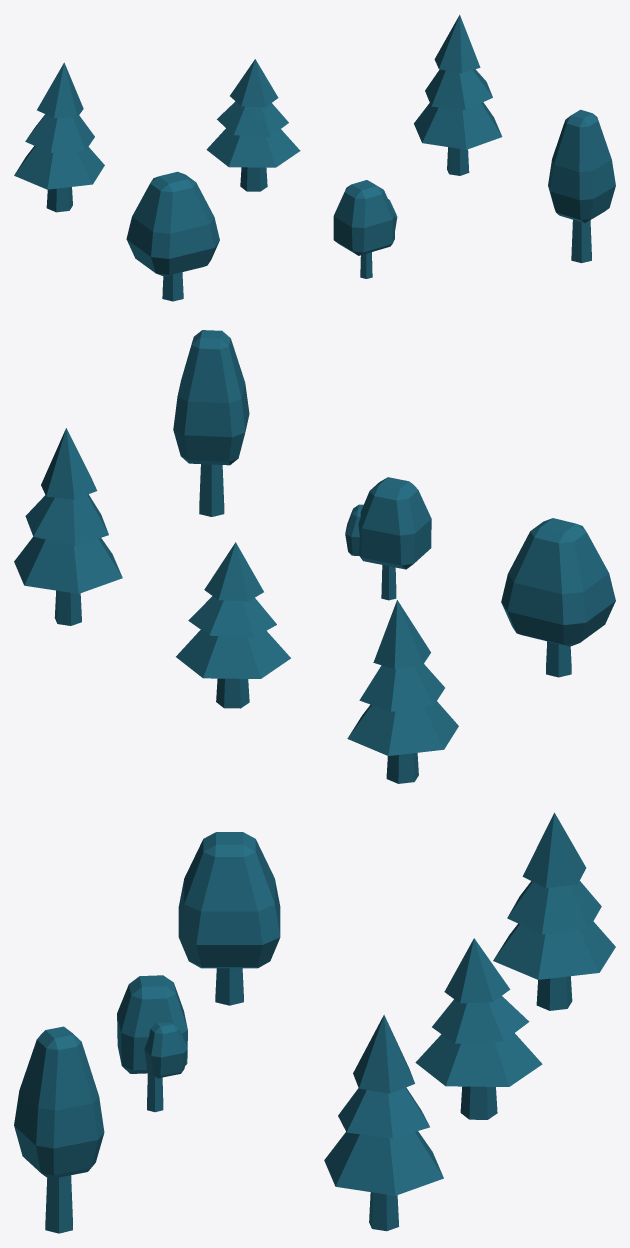
The model's file is trees.fbx.
3 views of the same model, one above another, from view 1: azimuth 30°, elevation 25°; view 2: azimuth 150°, elevation 25°; view 3: azimuth 270°, elevation 25° (orthographic). The views are drawn at different scales.
Visible parts, largest first — view 1: Cylinder013; view 2: Cylinder013; view 3: Cylinder013.
Part boxes in pixels (box(x1,y1,x2,y2)): Cylinder013: box(14, 14, 615, 301); Cylinder013: box(14, 330, 615, 783); Cylinder013: box(14, 812, 615, 1233).
Size of the model in its own units: 468 by 168 by 434.
